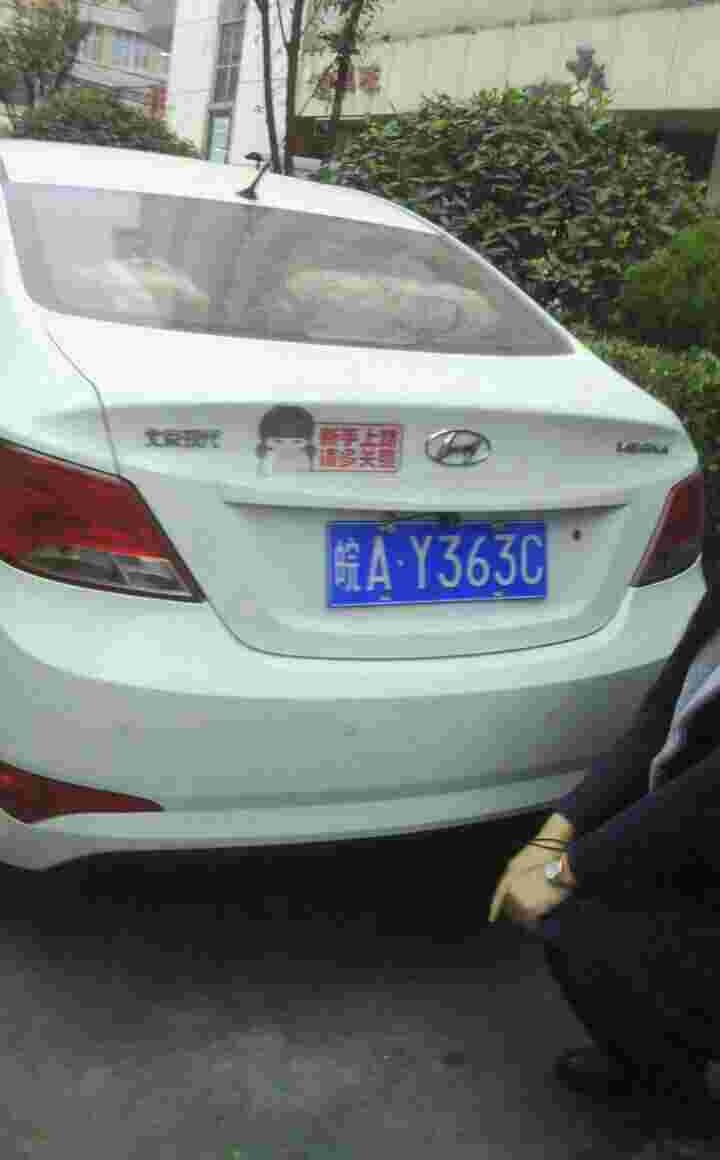license_plate: (330, 523, 551, 609)
